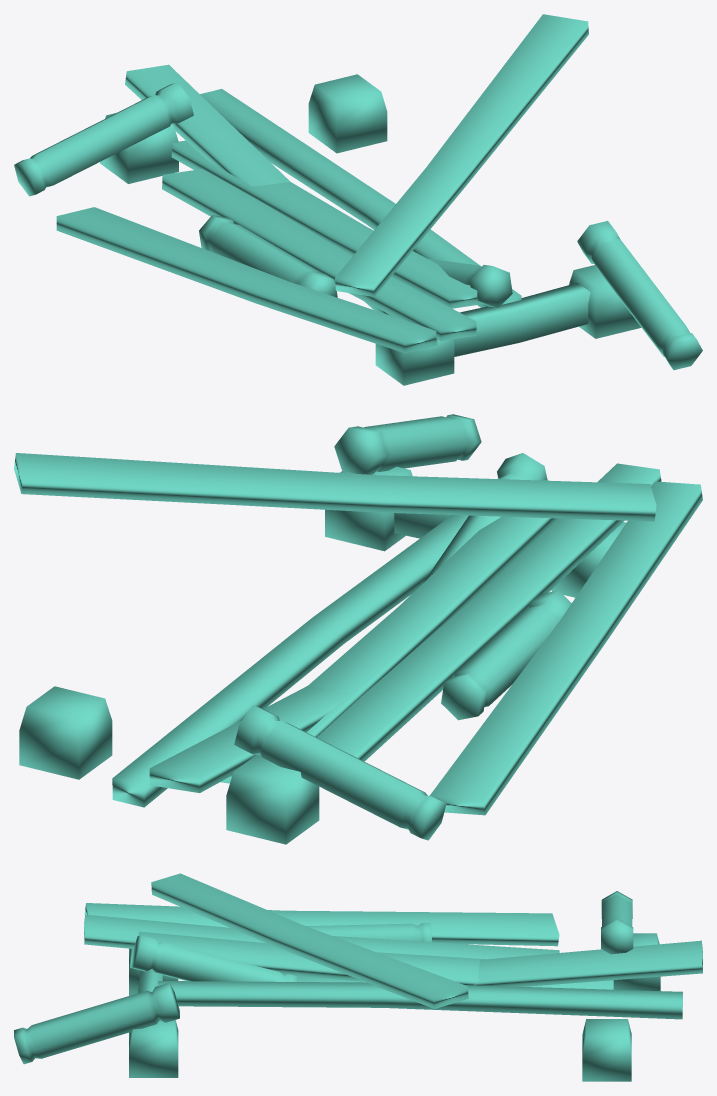
The model's file is Cupboard_10B_Break_Lod0.fbx.
The picture shows the model from 3 angles, top to bottom: view 1: azimuth 30°, elevation 25°; view 2: azimuth 150°, elevation 25°; view 3: azimuth 270°, elevation 25°; orthographic projection. The views are drawn at different scales.
Visible parts, largest first — view 1: Cupboard_10B_Break_Lod0; view 2: Cupboard_10B_Break_Lod0; view 3: Cupboard_10B_Break_Lod0.
Part boxes in pixels (x1,y1,x2,y2): Cupboard_10B_Break_Lod0: (14, 14, 702, 385); Cupboard_10B_Break_Lod0: (14, 414, 702, 844); Cupboard_10B_Break_Lod0: (14, 873, 702, 1081).
Bounding box in the file's own units: 122 × 38.38 × 178.
